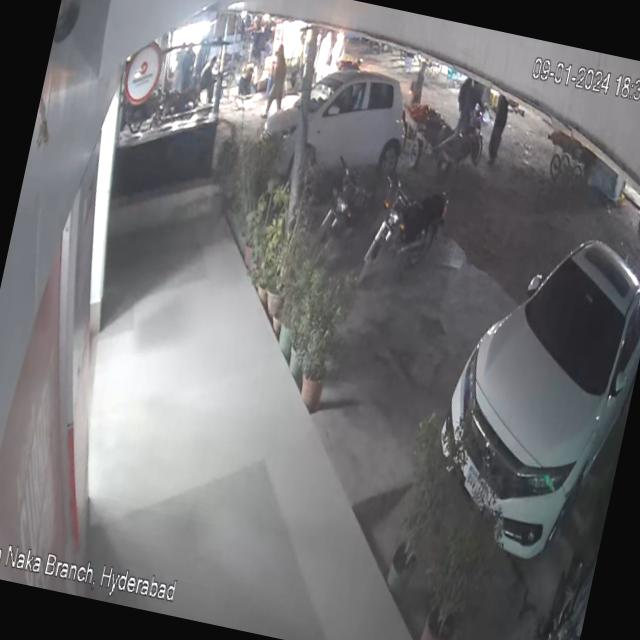Car: (414, 198, 640, 592), (252, 54, 434, 210)
Motorcycle: (358, 162, 458, 308), (303, 141, 397, 268)
